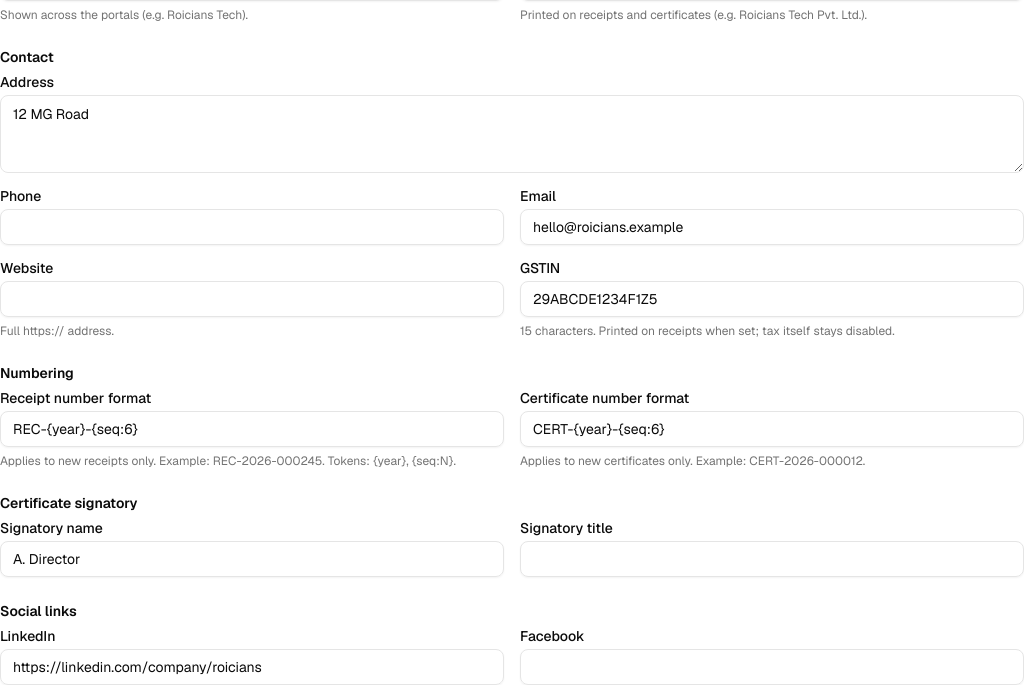
CompanySettingsForm (Super Admin) › keeps the submitted values and shows field errors when the save is refused
Replace the text in the field labelled "GSTIN" with "BAD" at (772, 299), box left=520, top=281, right=1023, bottom=317
(page scrolled)
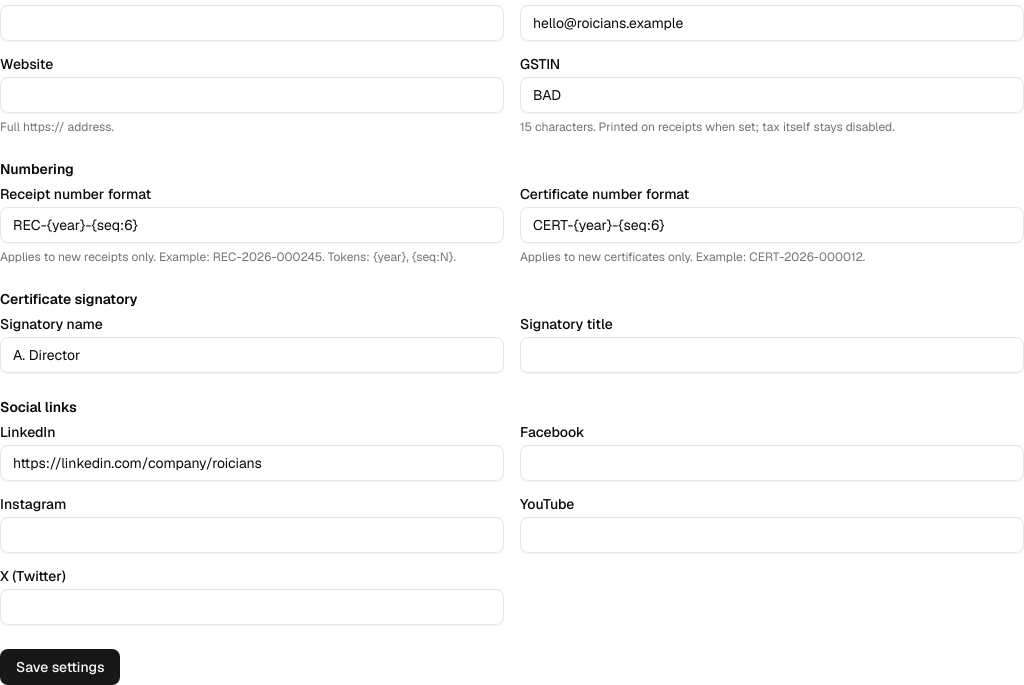
Click the button "Save settings".
click(60, 667)  # box left=0, top=649, right=120, bottom=684
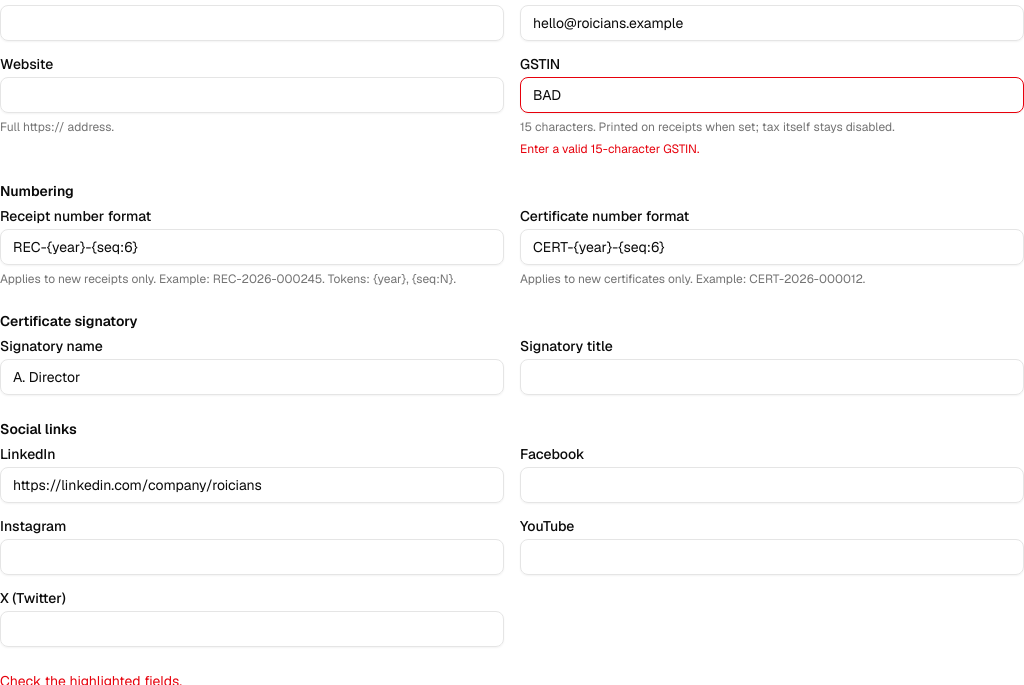
Expected: the field labelled "GSTIN" holds "BAD", left=520, top=77, right=1023, bottom=113
Expected: the text "Enter a valid 15-character GSTIN." is shown, left=520, top=141, right=699, bottom=157
